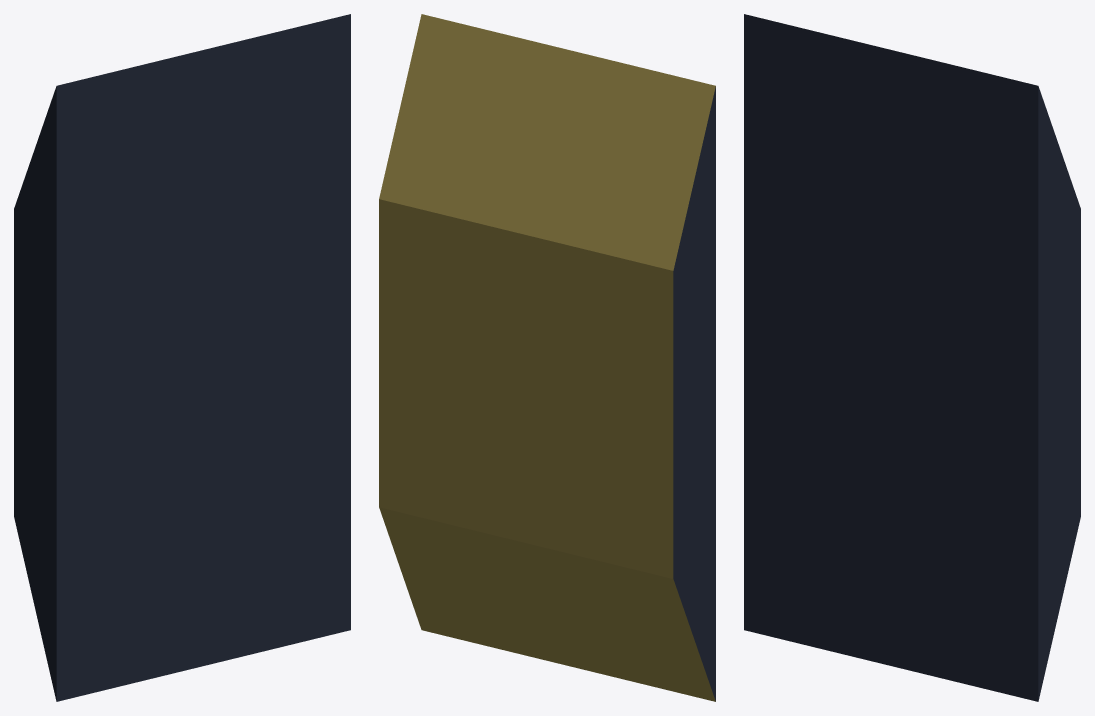
3 renders of one model, left to right at view 1: azimuth 30°, elevation 25°; view 2: azimuth 150°, elevation 25°; view 3: azimuth 330°, elevation 25°, orthographic.
Parts seen in each view (by area): view 1: Box; view 2: Box; view 3: Box.
Part boxes in pixels (left/top/right/bottom): Box: left=14, top=14, right=350, bottom=701; Box: left=379, top=14, right=715, bottom=701; Box: left=744, top=14, right=1080, bottom=701.
Size of the model in its own units: 800 by 1600 by 200.
